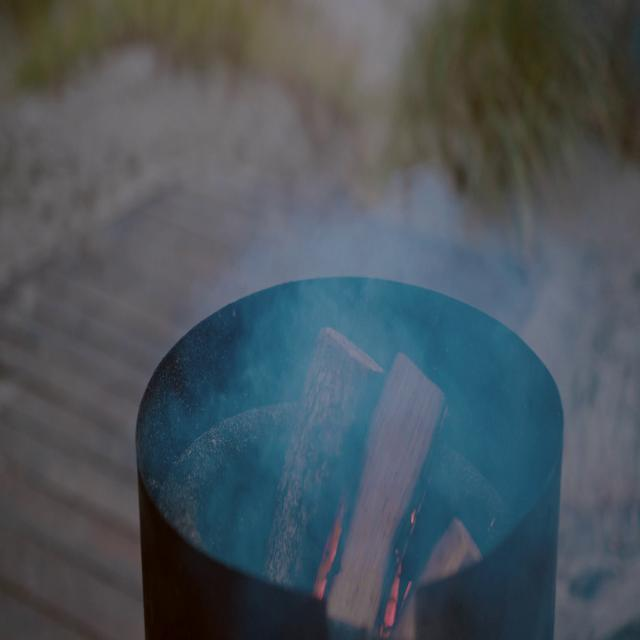Smoke: (200, 95, 640, 560)
